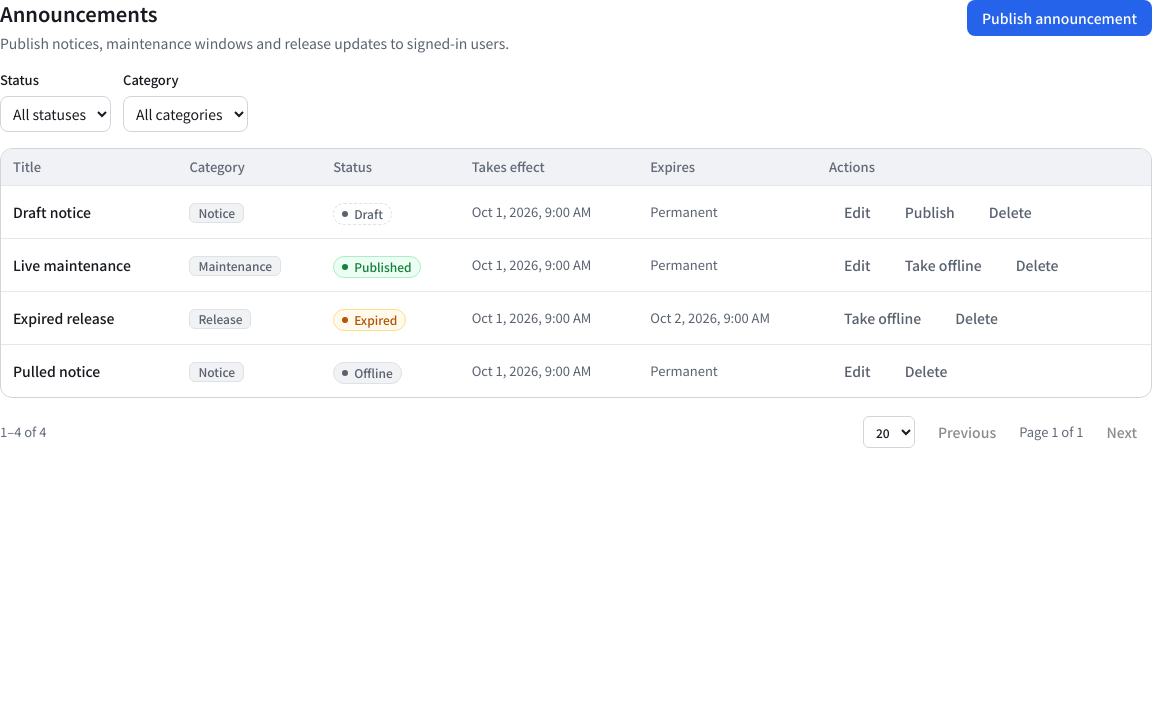
Test: announcements admin page (F-08-04) › publishes a draft only after the alertdialog confirmation
Expected: the text "Draft notice" is shown, [13, 202, 91, 222]
Click the button with aria-label "Publish Draft notice" at (930, 212), box [890, 194, 970, 230]
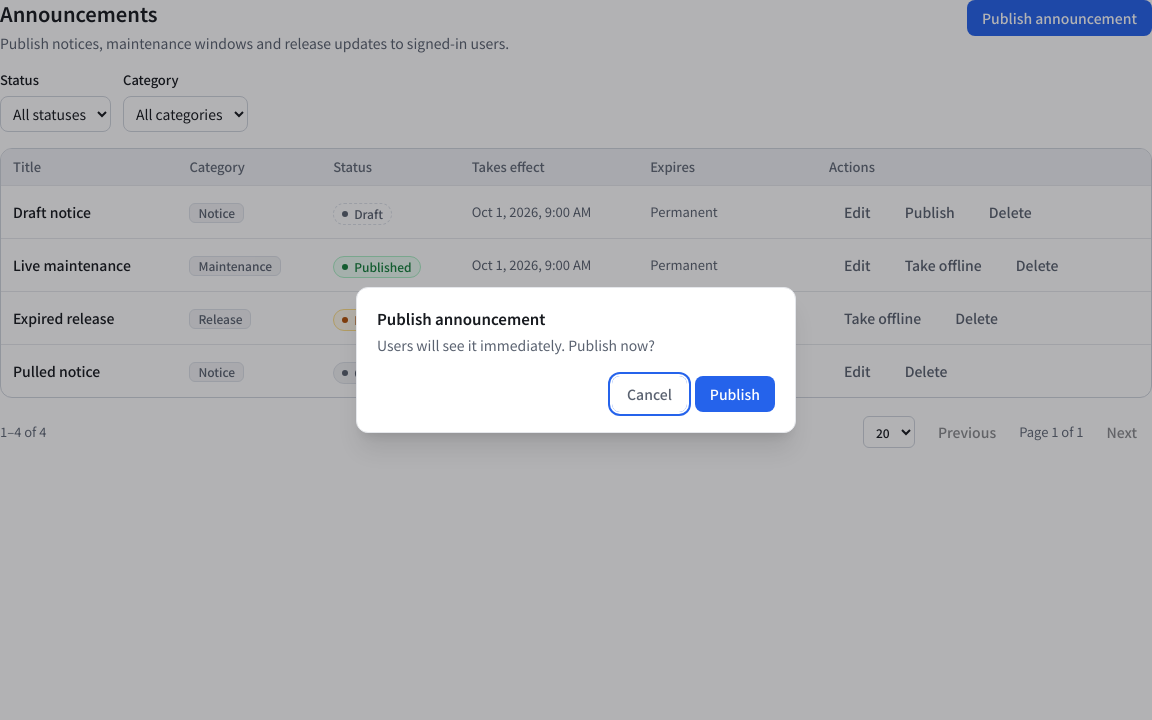
Expected: the dialog shows "Users will see it immediately", [377, 335, 655, 355]
Click the button "Publish" at (735, 394), box [695, 376, 775, 412]
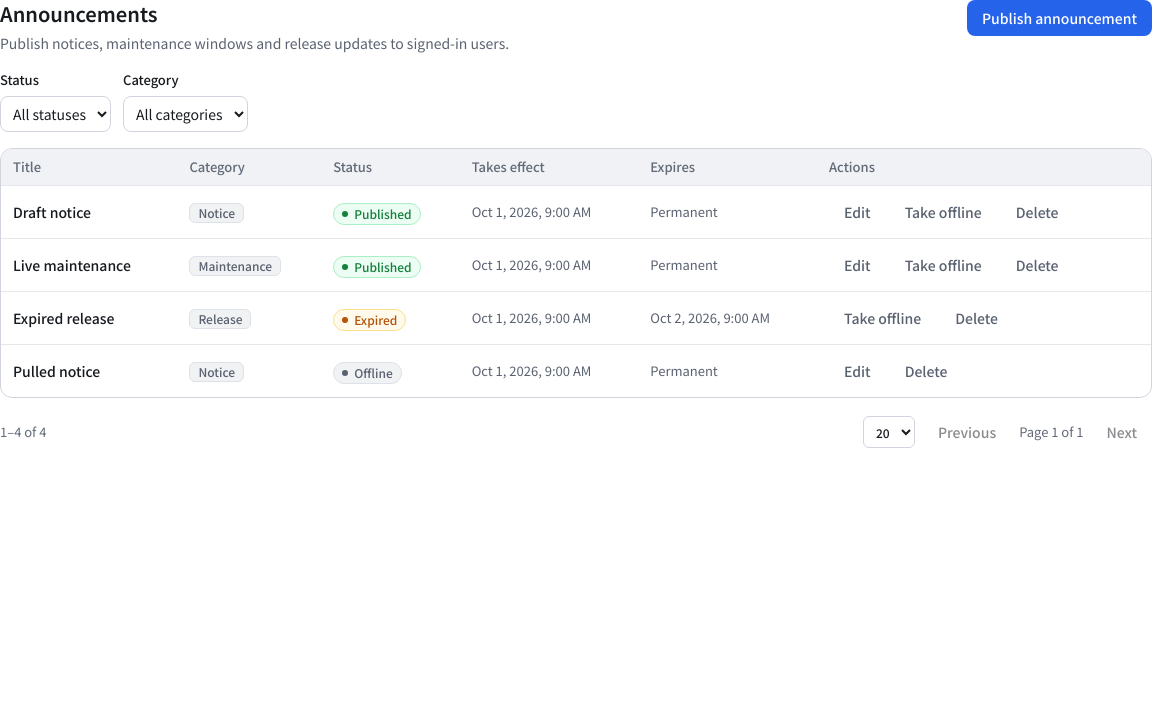
Expected: the text "Draft notice" is shown, [13, 202, 91, 222]
Expected: the element with test id "status-badge" reads "Published", [354, 204, 412, 222]
